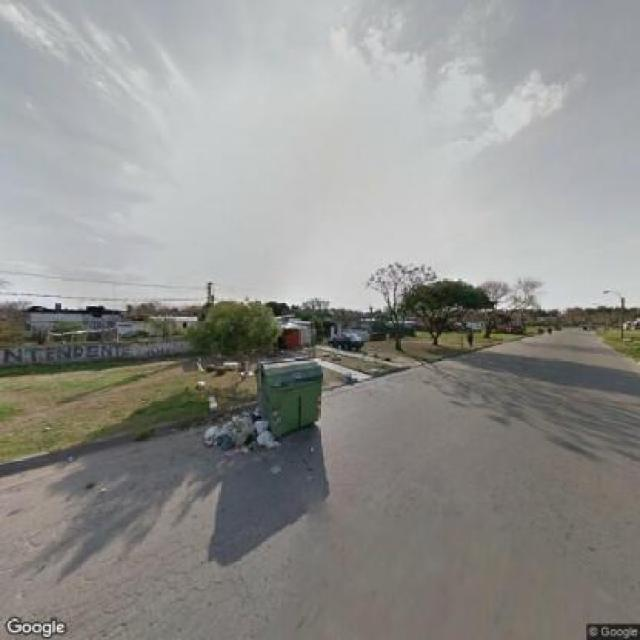garbage: (197, 408, 282, 452)
